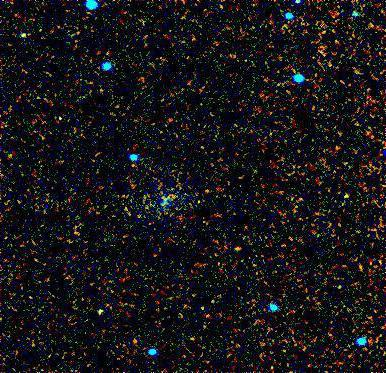star: (224, 237, 254, 267)
